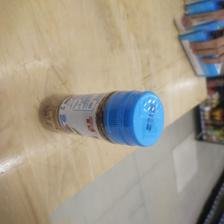TayNinh_blue: (38, 90, 164, 148)
